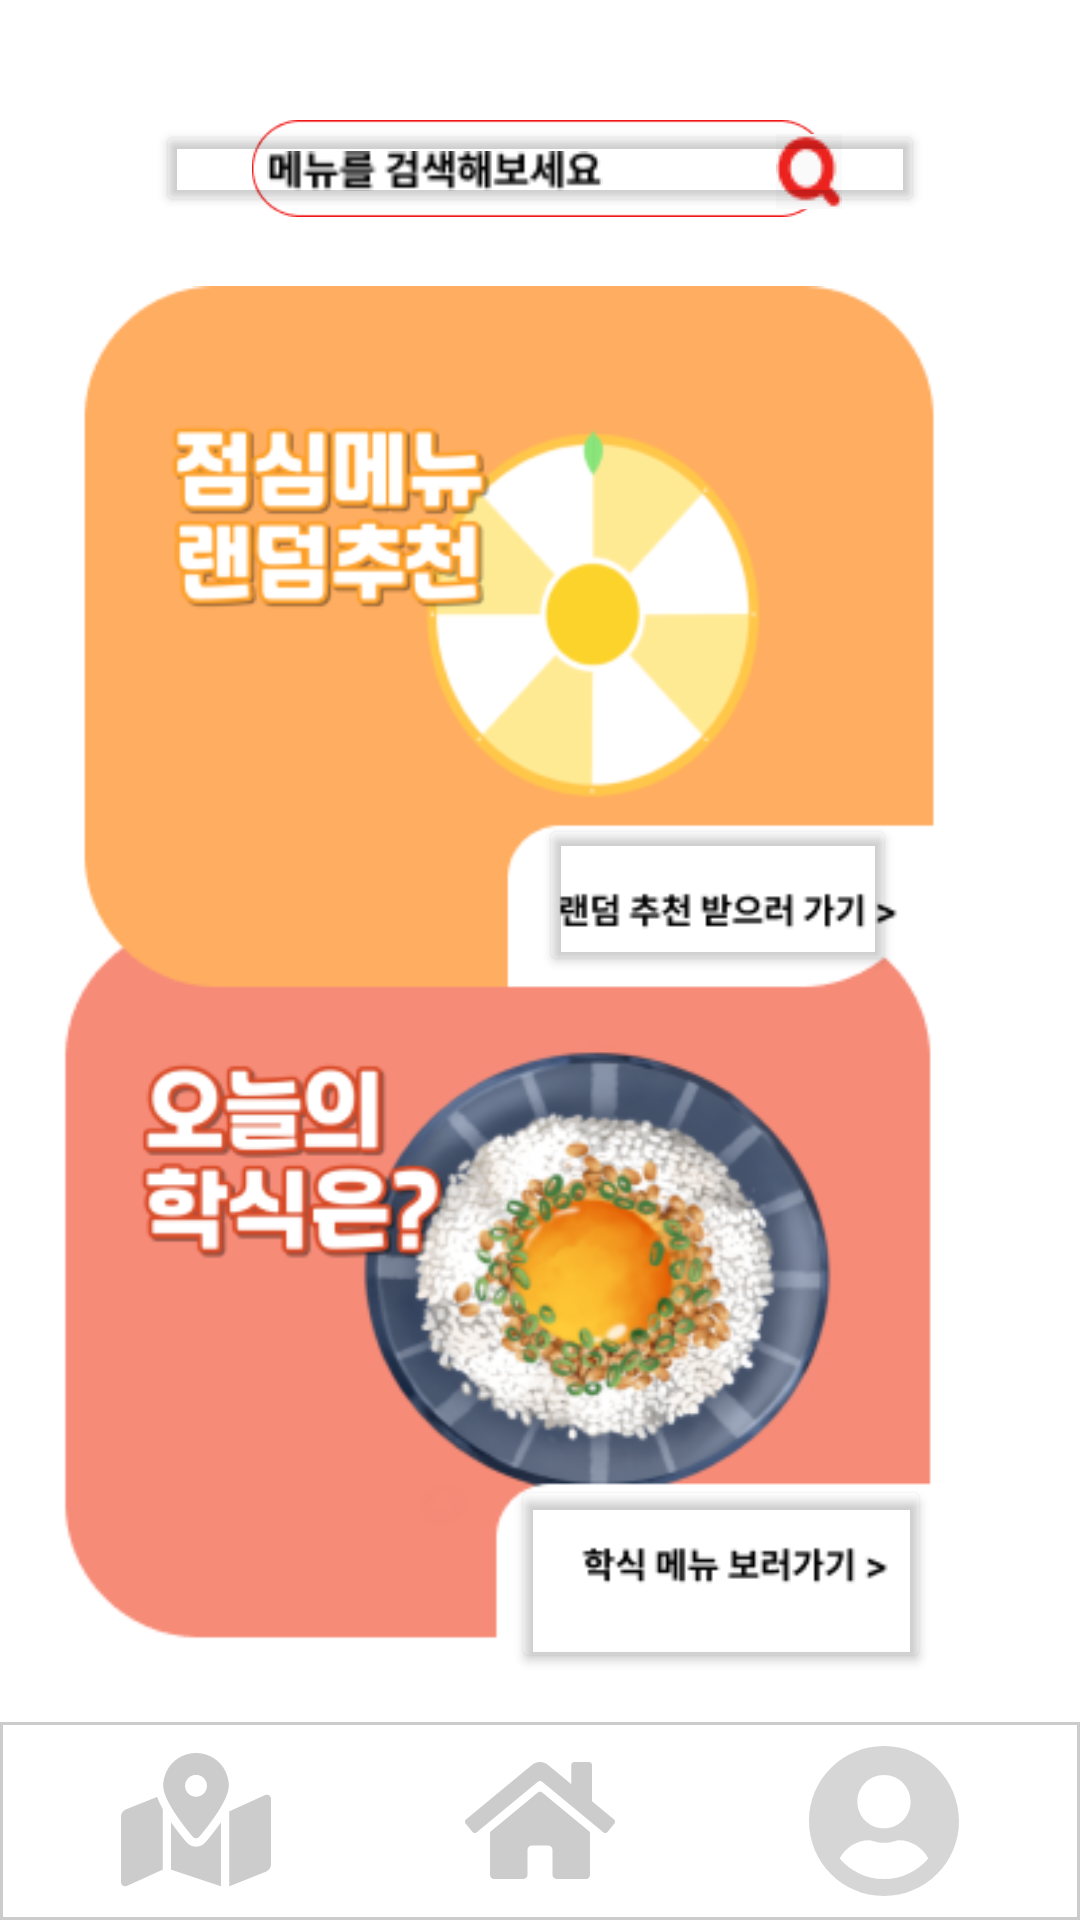

Where to tap for icons on this 1080×1920 app screen, as (x=x, y=y):
Home Button: (x=540, y=1820)
My Page Button: (x=884, y=1821)
